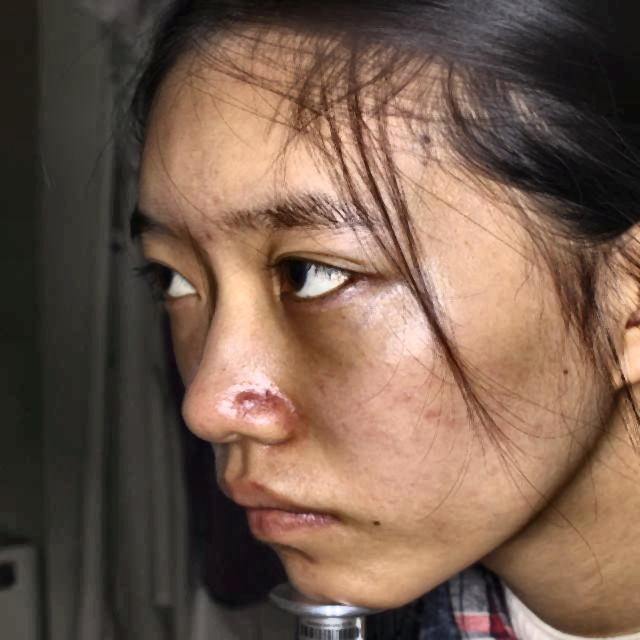comedone: (197, 221, 240, 249), (234, 386, 264, 412)
